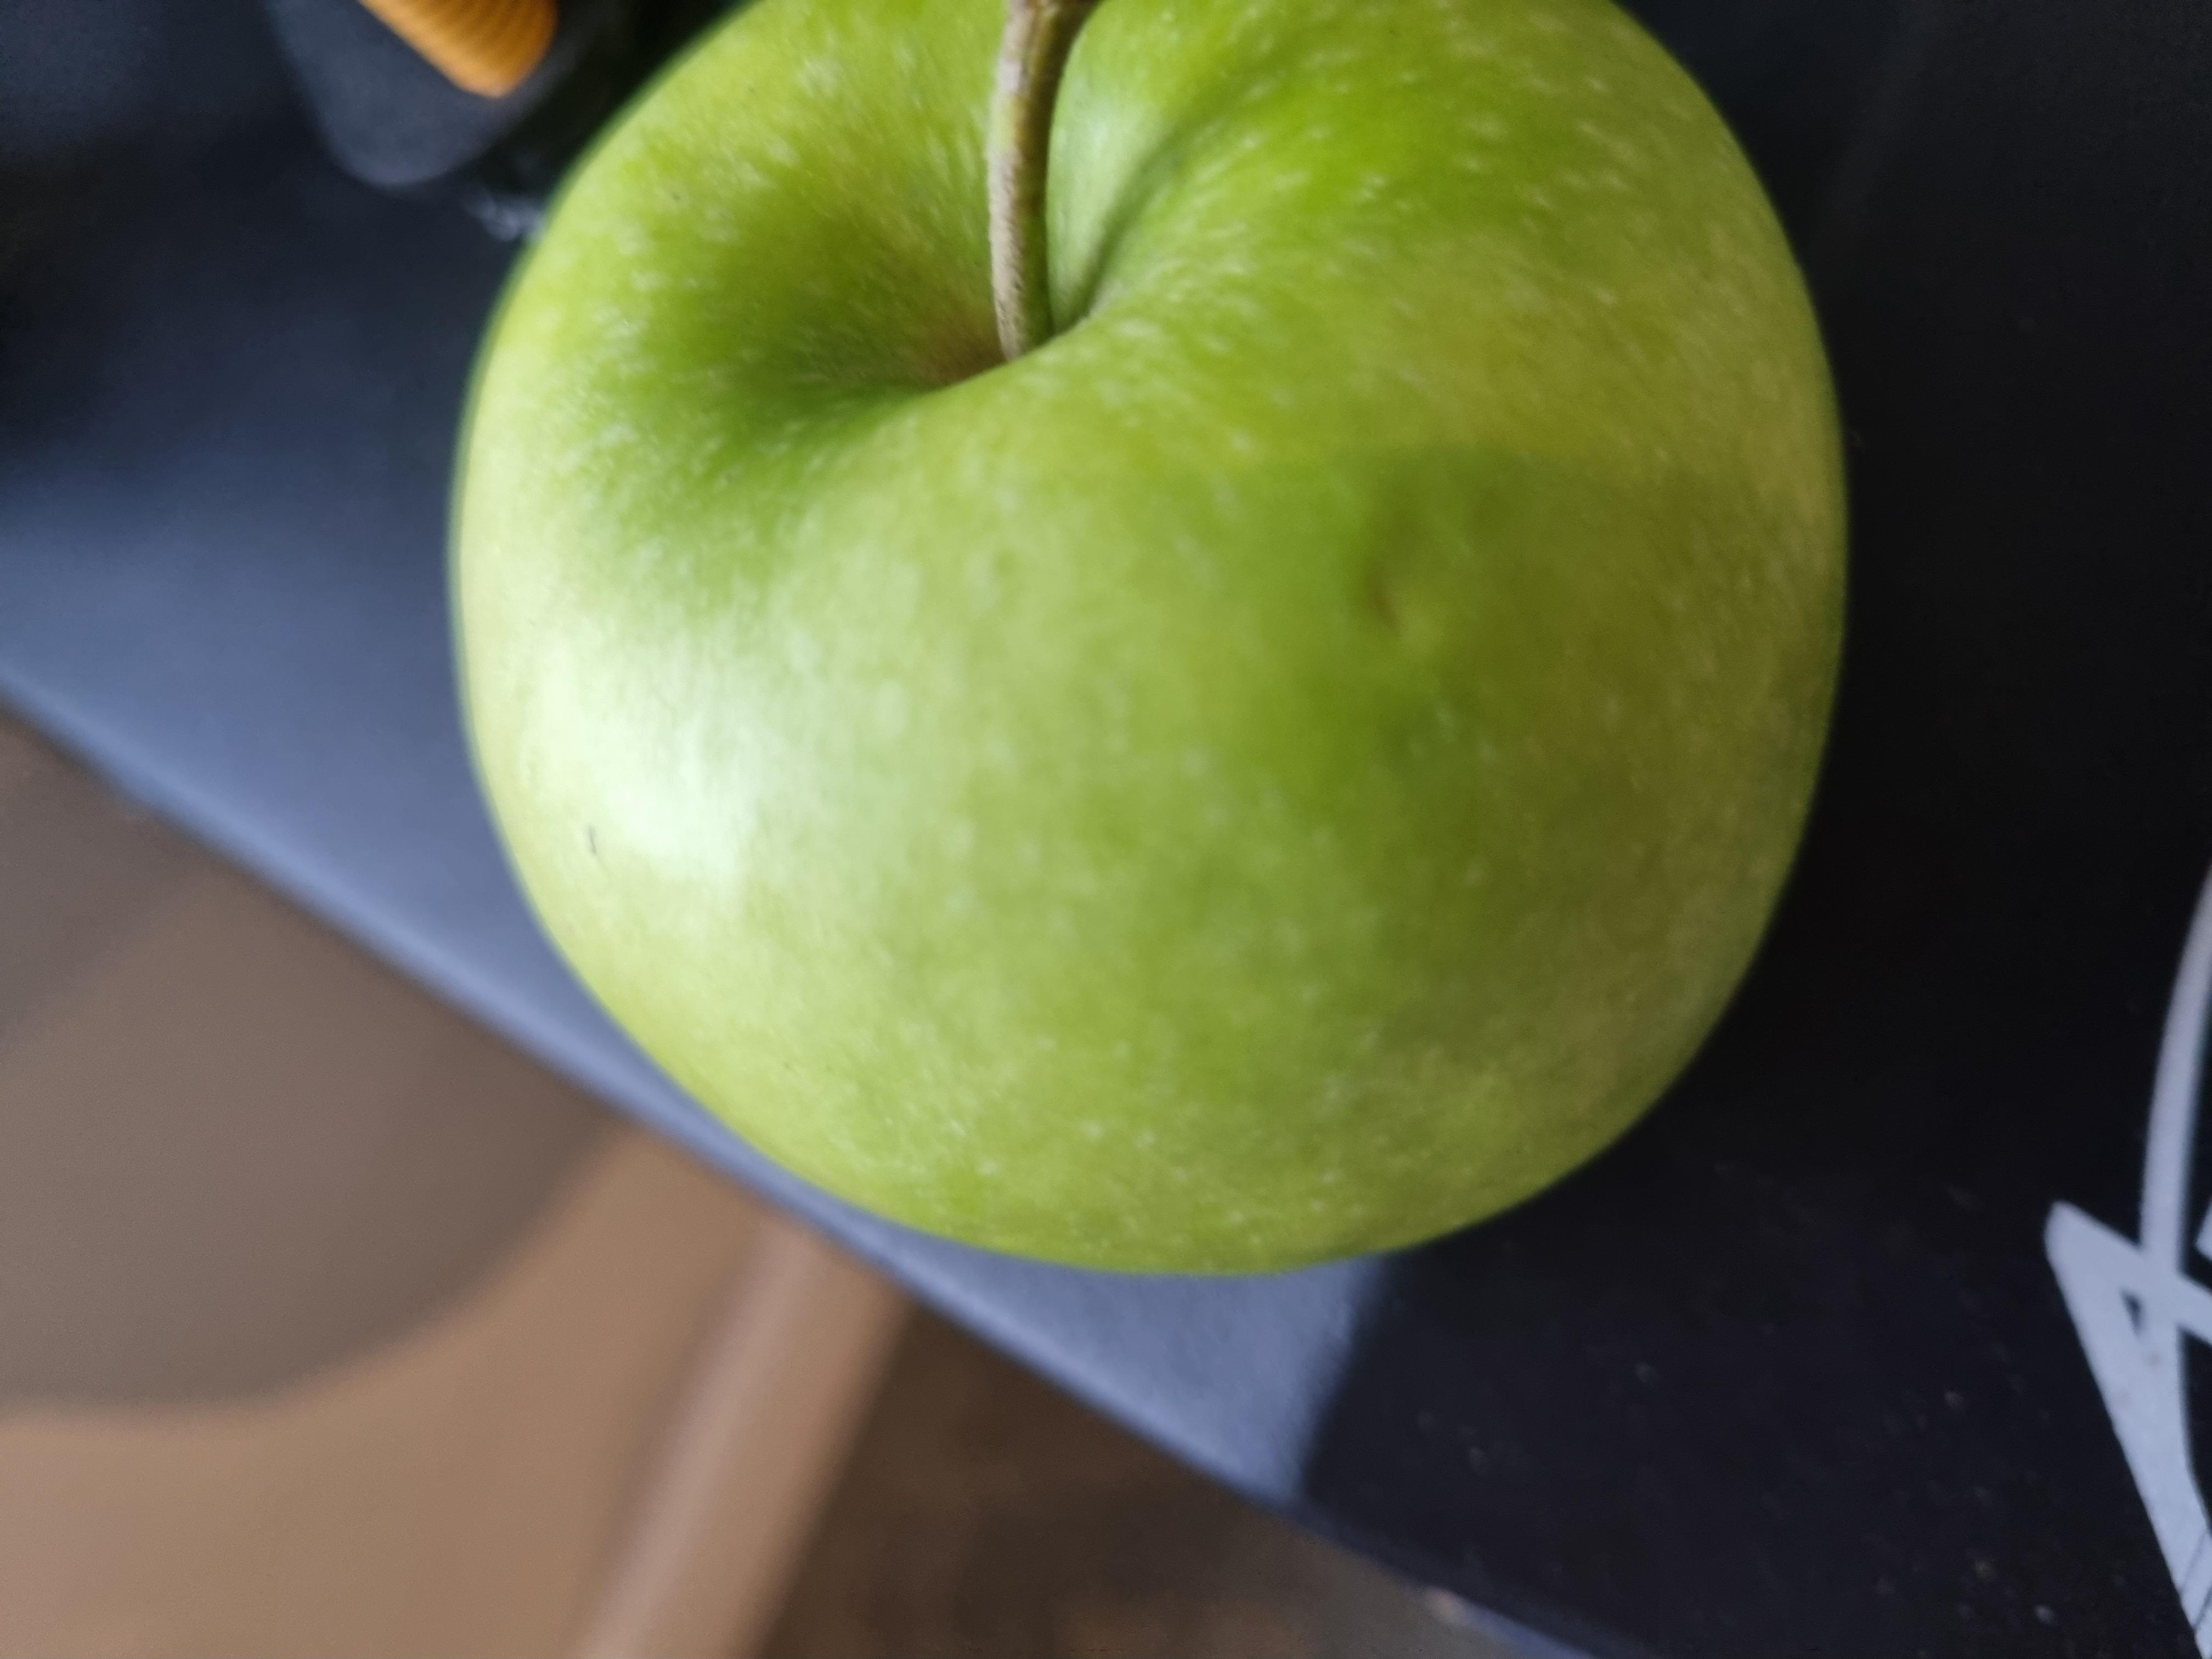Apple: (486, 314, 2212, 1425)
